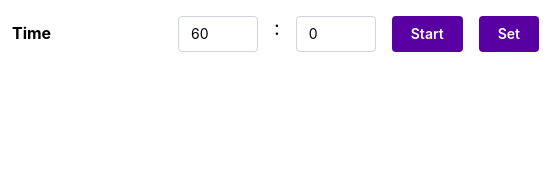
Test case: LiveMatchClockEdit › submit time button appears
Step 1. Click the button with test id "set-time-button" → (509, 34), box [479,16,539,52]
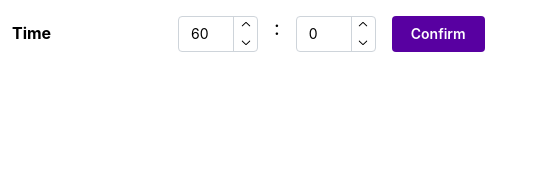
expect the button with test id "submit-time-button" is shown: met, box [392,16,485,52]
